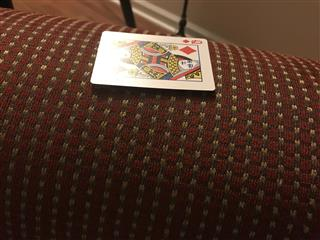QueenOfDiamonds: (89, 30, 216, 91)
